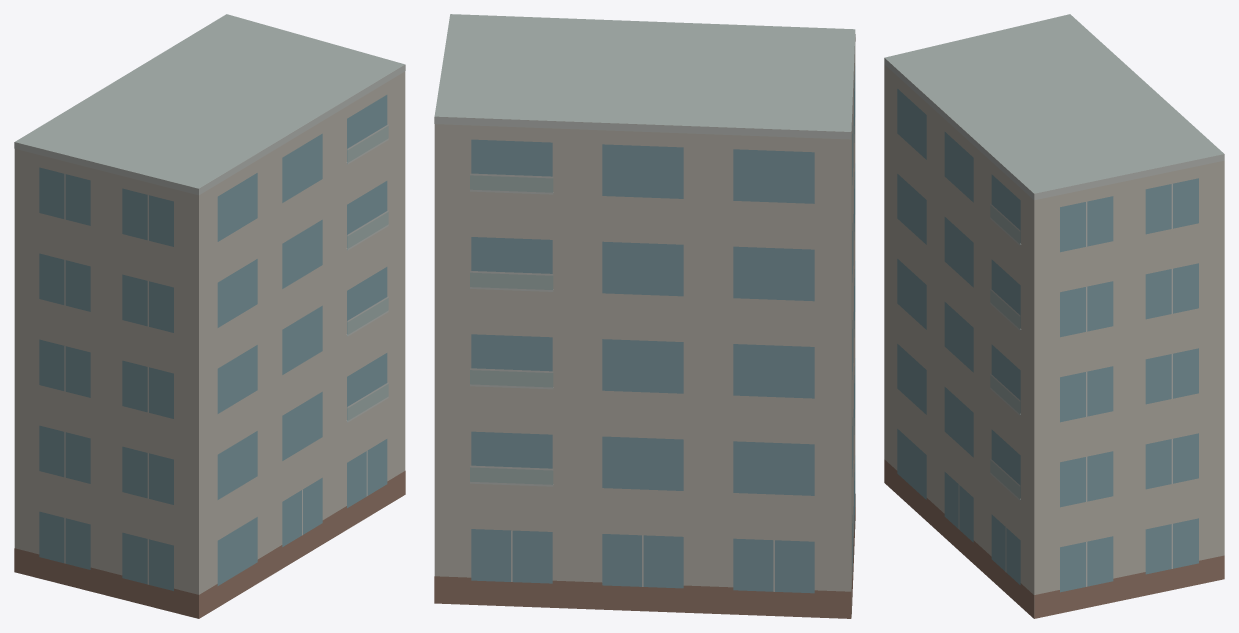
The model's file is survey-upis-32746354.glb.
The picture shows the model from 3 angles, left to right: view 1: azimuth 30°, elevation 25°; view 2: azimuth 150°, elevation 25°; view 3: azimuth 270°, elevation 25°; orthographic projection. The views are drawn at different scales.
Parts seen in each view (by area): view 1: survey-upis-32746354.tmp; view 2: survey-upis-32746354.tmp; view 3: survey-upis-32746354.tmp.
Part boxes in pixels (x1=…): survey-upis-32746354.tmp: x1=14, y1=14, x2=405, y2=618; survey-upis-32746354.tmp: x1=434, y1=14, x2=855, y2=618; survey-upis-32746354.tmp: x1=884, y1=14, x2=1224, y2=618.
Bounding box in the file's own units: 14.34 × 15.8 × 11.47.
